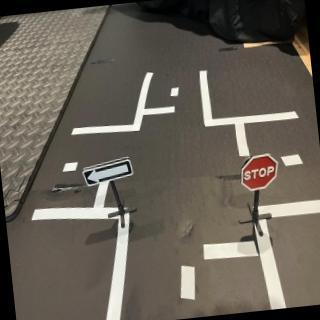sign_oneway_left: (80, 155, 138, 190)
